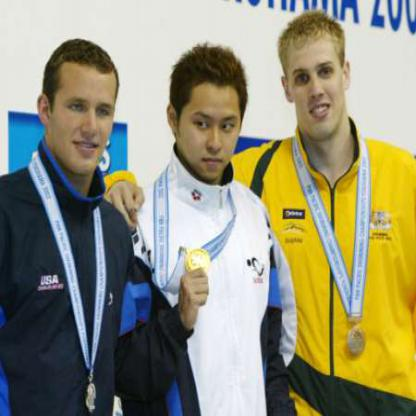face: (48, 48, 119, 176), (179, 58, 245, 180), (290, 19, 345, 141)
